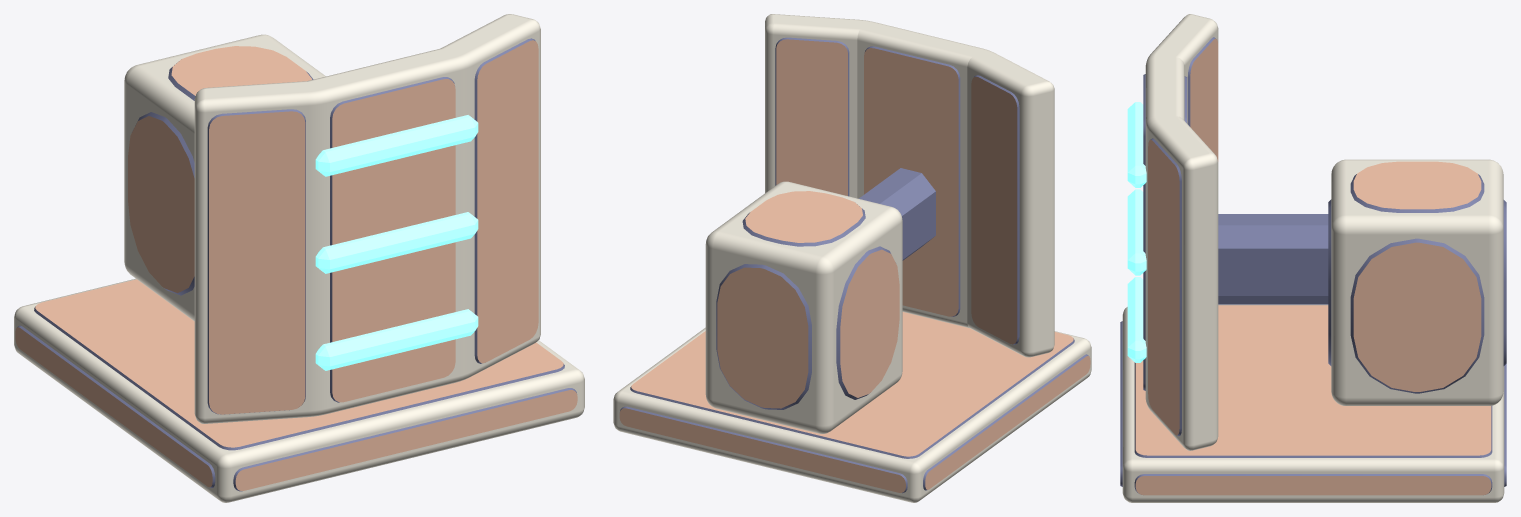
The model's file is R4X_DirectionalShield.fbx.
The picture shows the model from 3 angles, left to right: view 1: azimuth 30°, elevation 25°; view 2: azimuth 150°, elevation 25°; view 3: azimuth 270°, elevation 25°; orthographic projection. The views are drawn at different scales.
Parts seen in each view (by area): view 1: R4X_DirectionalShield_Body; view 2: R4X_DirectionalShield_Body; view 3: R4X_DirectionalShield_Body.
Boxes of the visible parts, x1,y1,x2,y2 form: R4X_DirectionalShield_Body: (14,14,584,502); R4X_DirectionalShield_Body: (613,14,1091,502); R4X_DirectionalShield_Body: (1120,14,1506,502).
Size of the model in its own units: 0.52 by 0.507 by 0.52.
